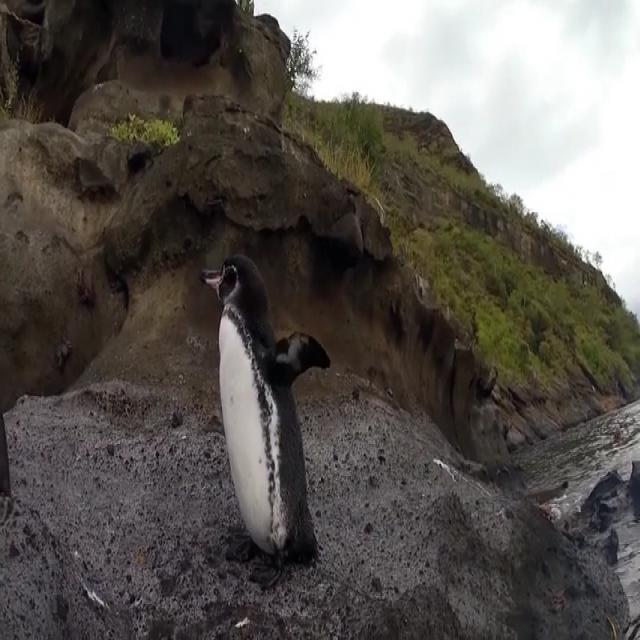penguin: (199, 255, 328, 591)
